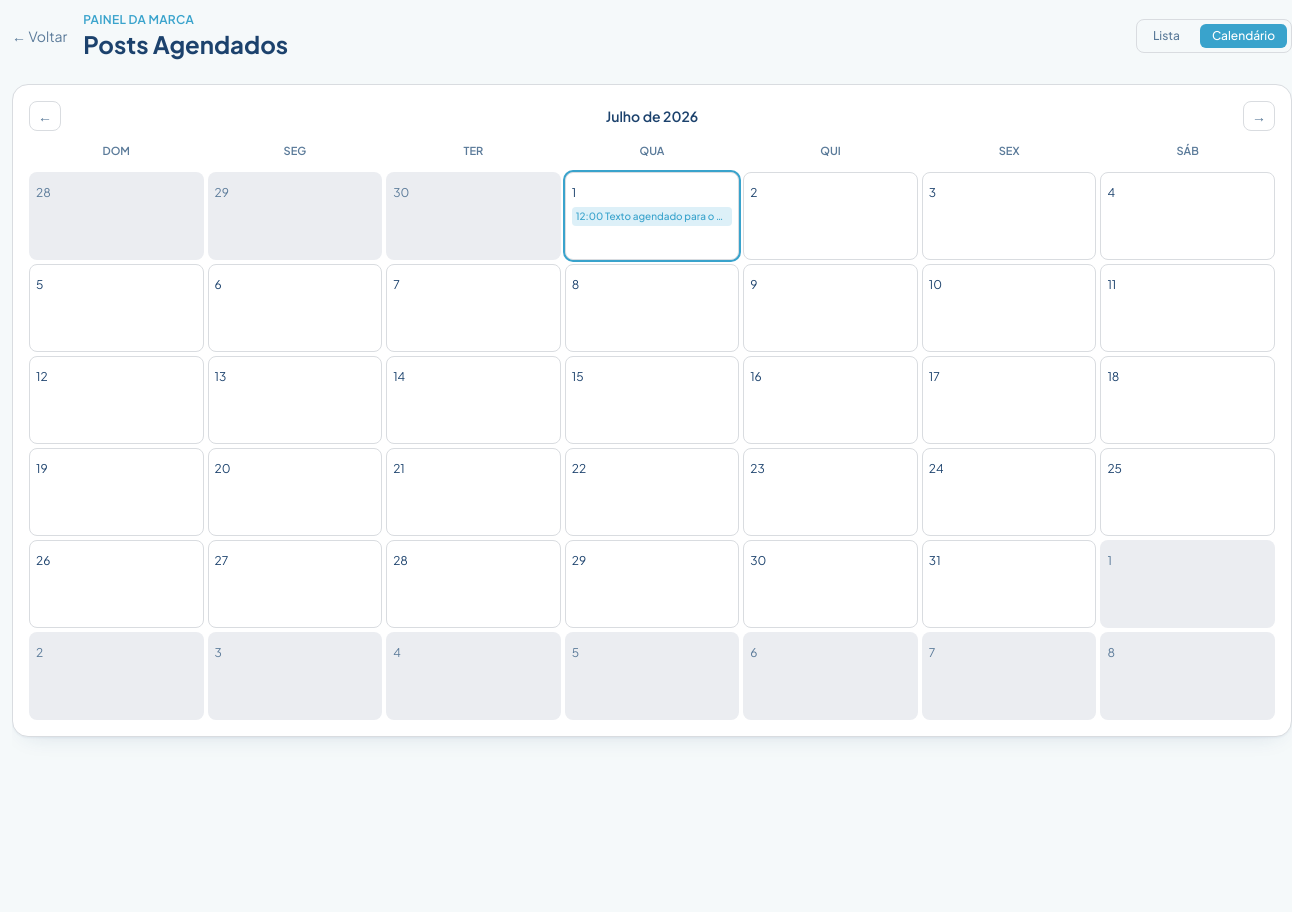
Test: ScheduledPostsPage › visão de calendário › permite navegar entre os meses do calendário
Check: the button "12:00 Texto agendado para o LinkedIn" is shown, box [572,206,732,226]
What coordinates should you click on to do the following:
click the button named "Mês seguinte"
I would click on:
 (1259, 116)
Its box is [1243,101,1275,131].
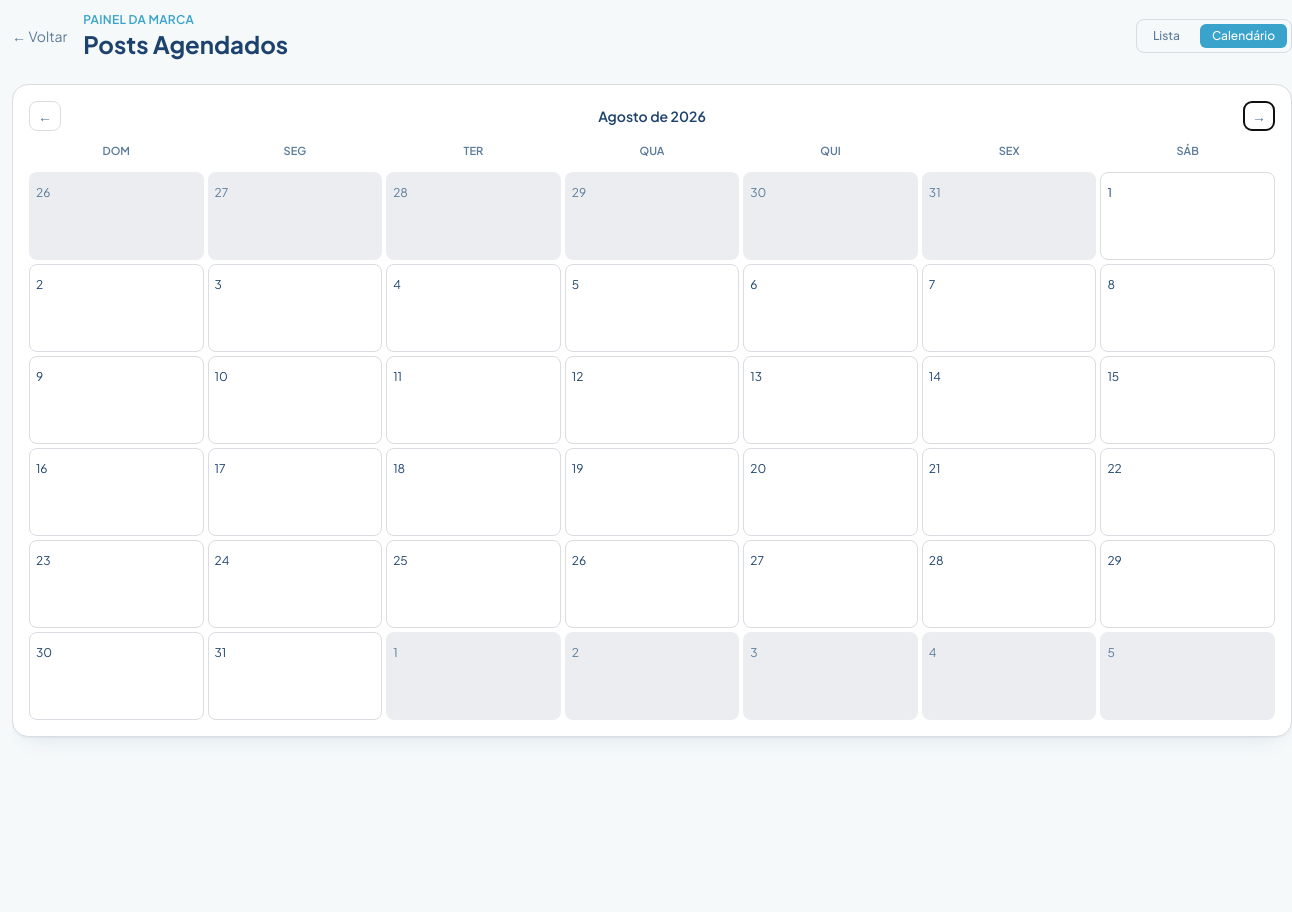
Check: the text "Agosto de 2026" is shown, box [598,106,706,126]
Check: the button "Texto agendado para o LinkedIn" is gone
What coordinates should you click on to do the following:
click the button named "Mês anterior"
I would click on:
 (45, 116)
Its box is [29,101,61,131].
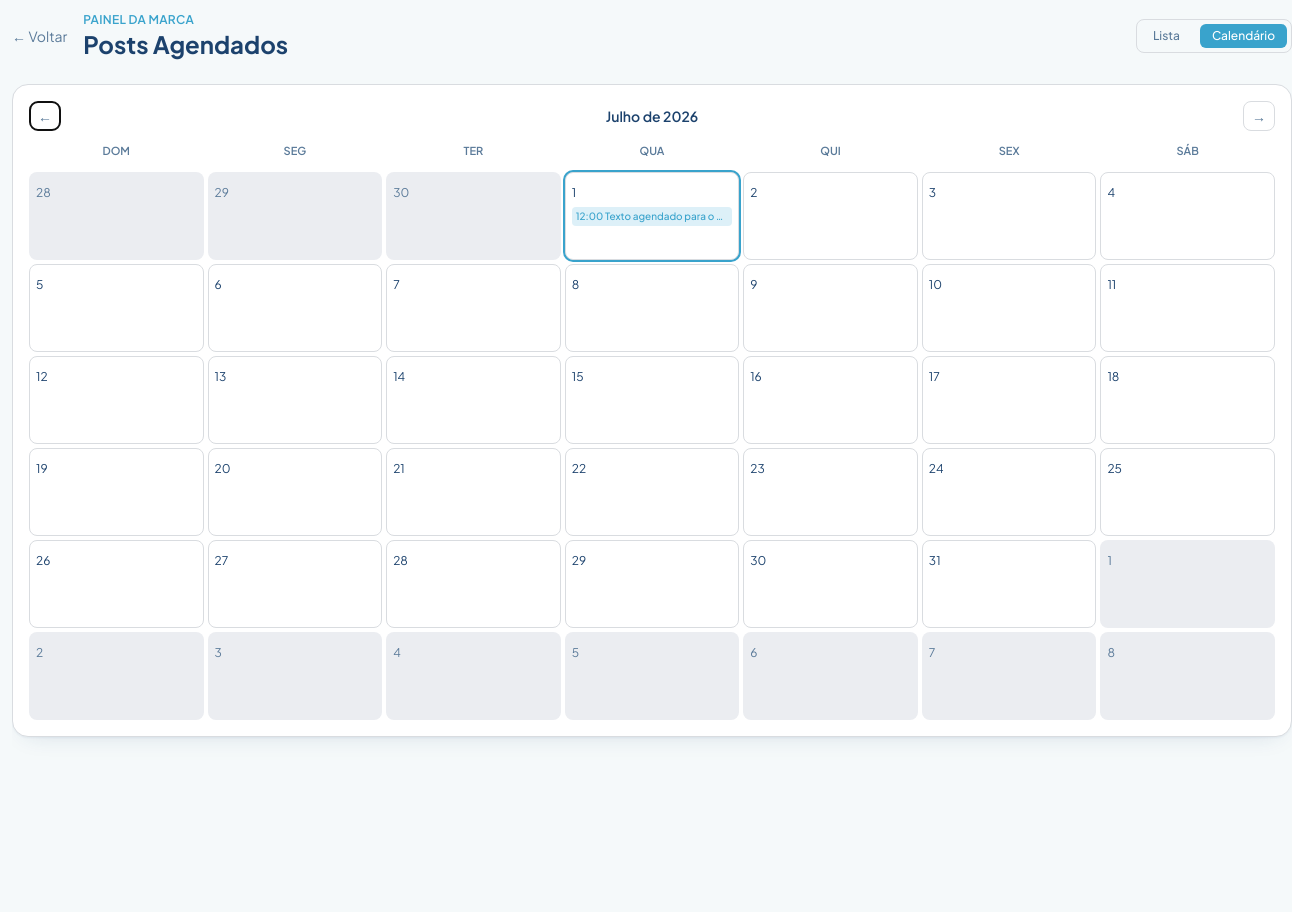
What coordinates should you click on to do the following:
click the button named "Mês anterior"
I would click on:
 (45, 116)
Its box is [29,101,61,131].
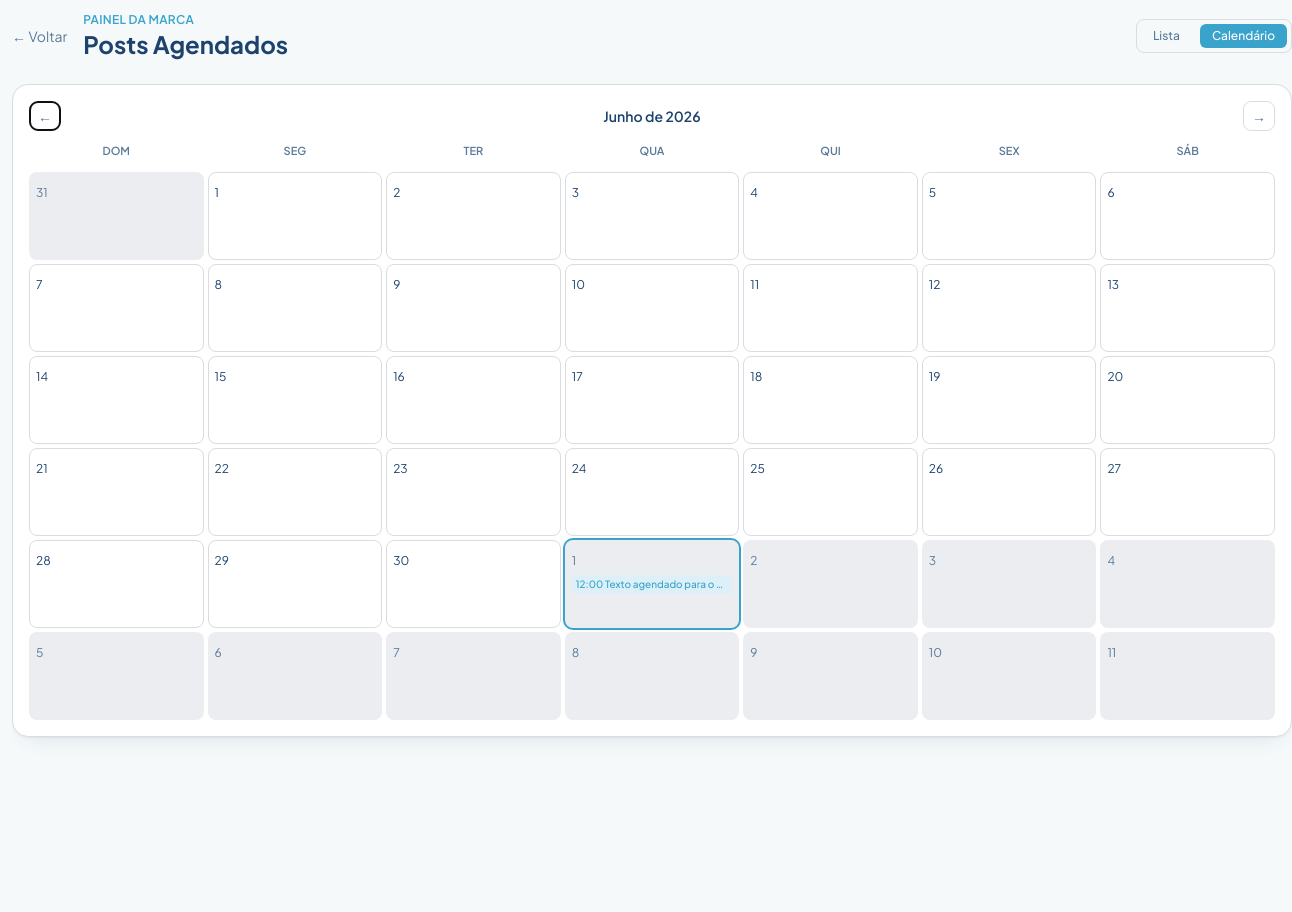
Check: the text "Junho de 2026" is shown, box [603,106,701,126]
